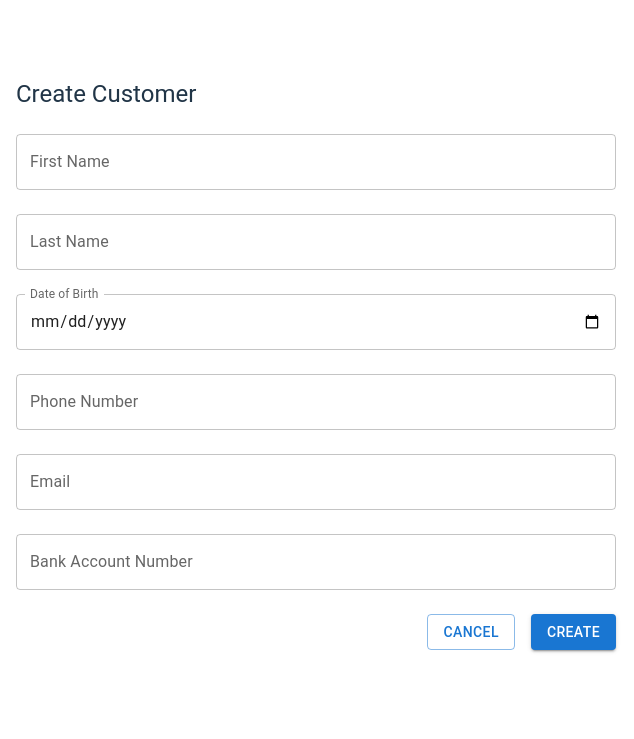
it: CustomerForm › validates required fields
The image size is (634, 739).
Click the button "Create".
click(573, 632)  # box [531,614,616,650]
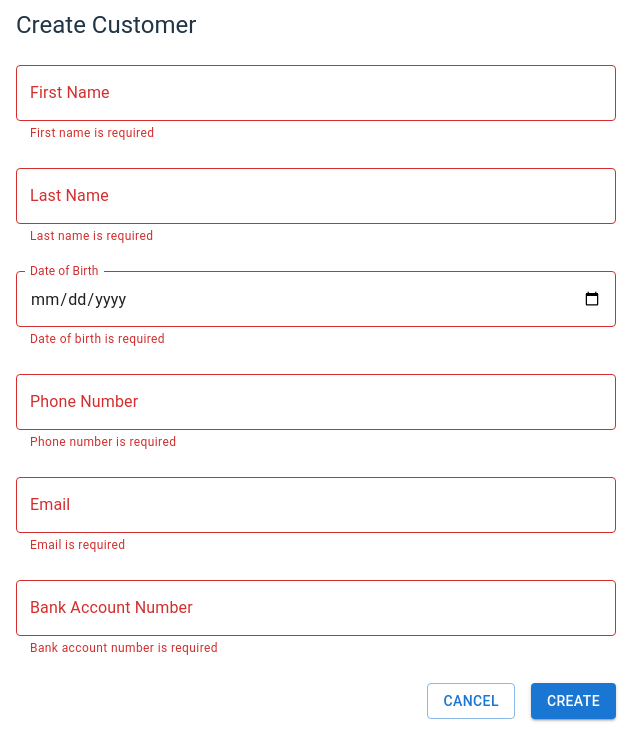
Now the text "First name is required" is shown, box [30,126,154,140]
Now the text "Last name is required" is shown, box [30,229,153,243]
Now the text "Date of birth is required" is shown, box [30,332,165,346]
